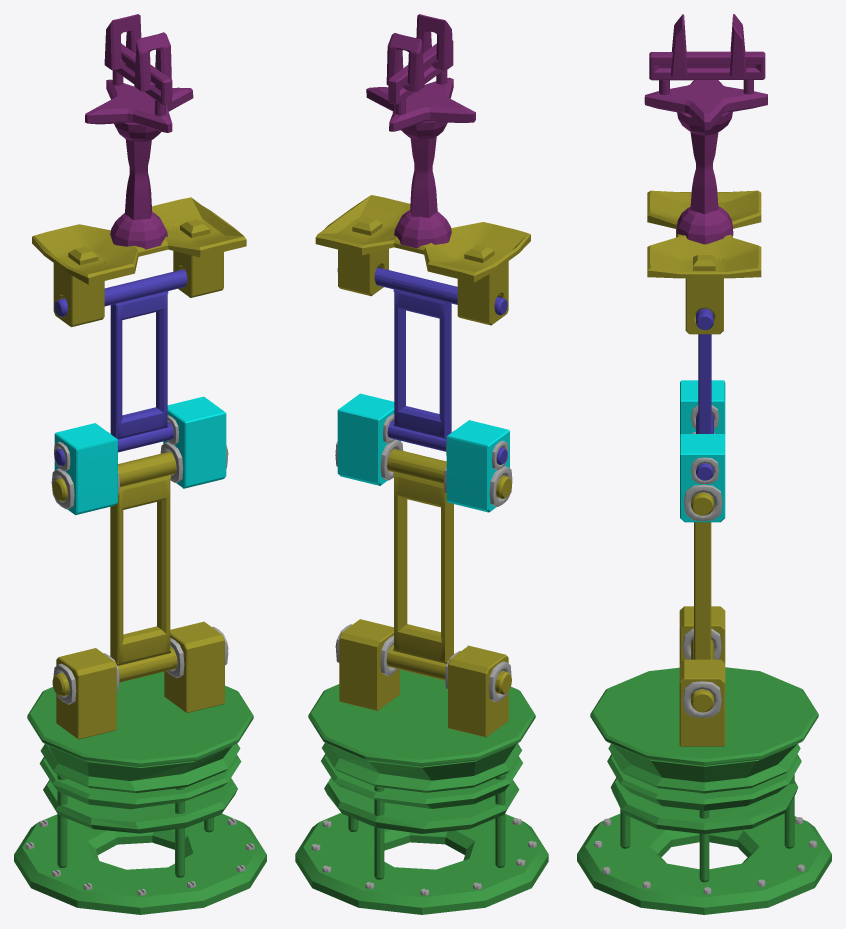
The model's file is robotic_arm.fbx.
3 views of the same model, side by side, from view 1: azimuth 30°, elevation 25°; view 2: azimuth 150°, elevation 25°; view 3: azimuth 270°, elevation 25° (orthographic).
Visible parts, largest first — view 1: pCylinder44, pCylinder2, pCylinder51, pCylinder37, pCube21, pCube17, upperarm_GRP1, pCube29, pCube24, pCube10, pCube14, pCube20 (+3 smaller); view 2: pCylinder44, pCylinder2, pCylinder51, pCylinder37, pCube21, pCube17, upperarm_GRP1, pCube29, pCube24, pCube10, pCube14, pCube20 (+3 smaller); view 3: pCylinder44, pCylinder51, pCylinder2, pCylinder37, pCube17, pCube21, pCube24, pCube14, upperarm_GRP1, pCube15, pCube10, pCube29 (+3 smaller).
Boxes of the visible parts, x1,y1,x2,y2 form: pCylinder44: (14, 813, 266, 914); pCylinder2: (39, 743, 241, 833); pCylinder51: (27, 672, 253, 766); pCylinder37: (85, 14, 193, 249); pCube21: (52, 449, 228, 696); pCube17: (32, 197, 246, 284); upperarm_GRP1: (54, 269, 187, 465); pCube29: (56, 648, 116, 739); pCube24: (164, 621, 224, 712); pCube10: (54, 423, 117, 515); pCube14: (163, 396, 226, 488); pCube20: (53, 261, 104, 327); pCylinder44: (295, 813, 548, 914); pCylinder2: (321, 743, 522, 833); pCylinder51: (308, 669, 535, 766); pCylinder37: (366, 14, 475, 248); pCube21: (335, 449, 511, 694); pCube17: (315, 195, 530, 282); upperarm_GRP1: (337, 267, 507, 464); pCube29: (448, 645, 508, 737); pCube24: (339, 619, 399, 710); pCube10: (446, 420, 509, 512); pCube14: (337, 393, 400, 485); pCube20: (457, 261, 508, 325); pCylinder44: (577, 813, 831, 914); pCylinder51: (590, 667, 818, 765); pCylinder2: (607, 744, 801, 834); pCylinder37: (644, 14, 767, 244); pCube17: (647, 190, 761, 278); pCube21: (691, 492, 714, 712); pCube24: (679, 659, 725, 746); pCube14: (680, 434, 725, 522); upperarm_GRP1: (696, 308, 713, 480); pCube15: (685, 259, 723, 334); pCube10: (680, 380, 725, 434); pCube29: (679, 606, 725, 663).
Bounding box in the file's own units: 5.6 × 20.39 × 5.6.
